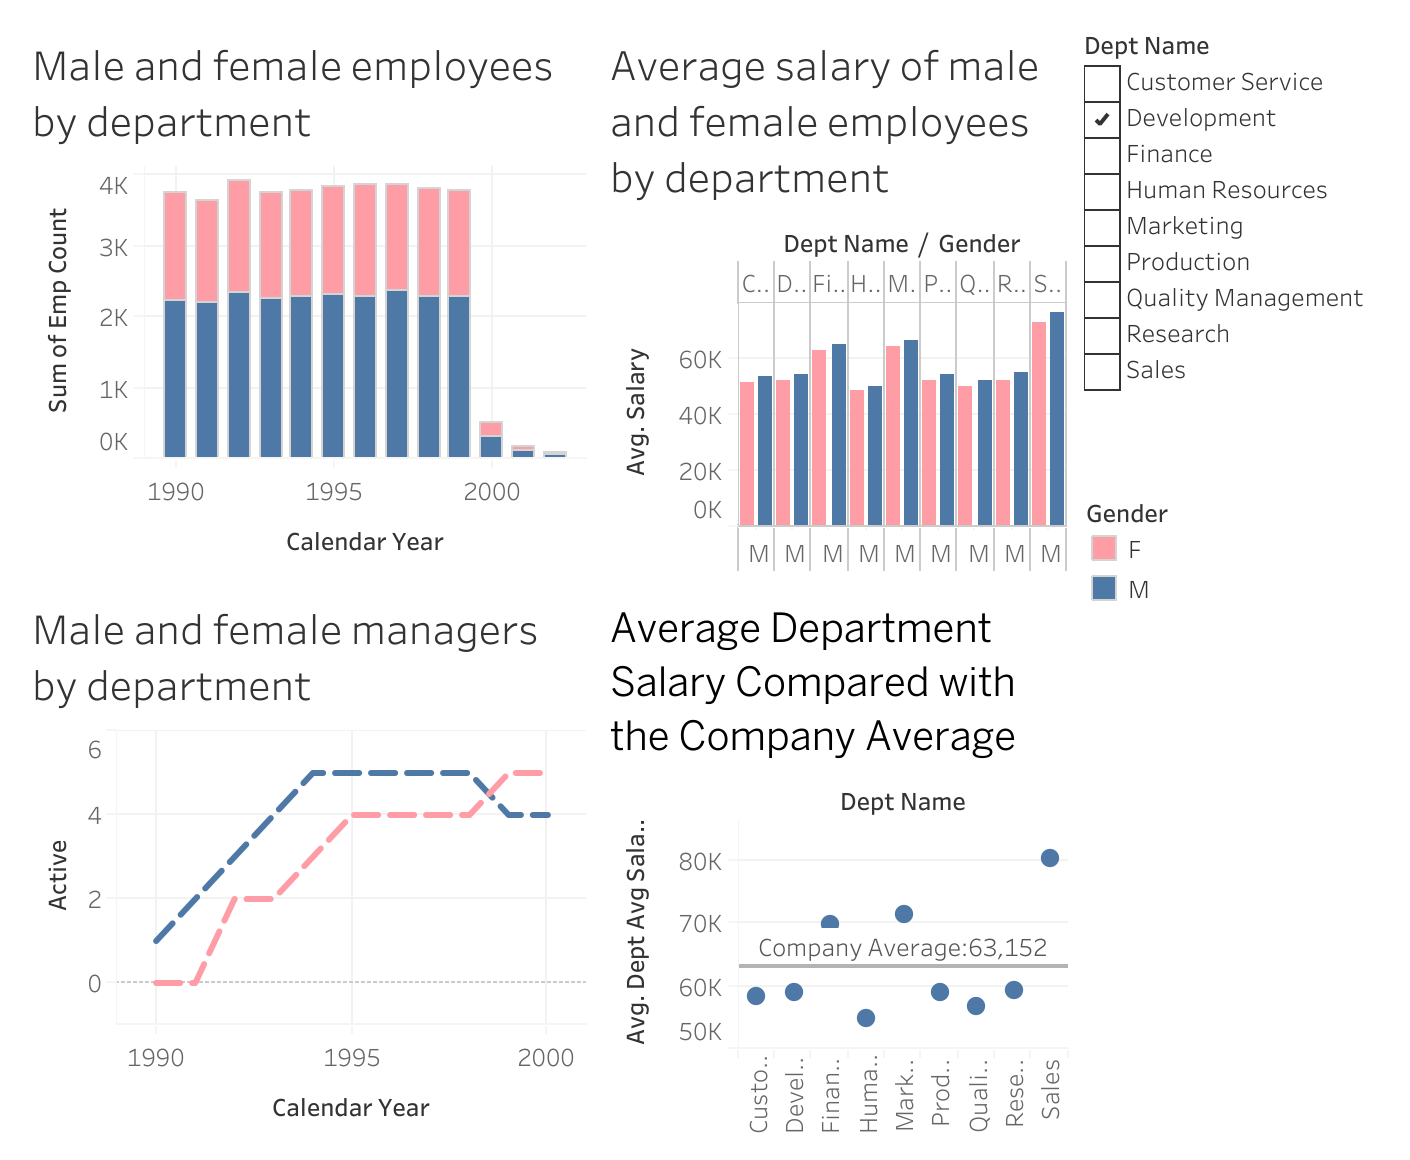

The dashboard page shown, as its layout file describes it:
{"tool":"tableau","page":{"name":"Dashboard 1","canvas":[1000,1000],"units":"permille","ordinal":0},"visuals":[{"type":"worksheet","title":"Sheet 1","mark":"Bar","rows":["emp_count"],"cols":["calendar_year"],"box":[6.7,10.6,465.6,489.4]},{"type":"worksheet","title":"Sheet 3","mark":"Automatic","rows":["salary"],"cols":["dept_name","gender"],"box":[472.2,10.6,387.8,489.4]},{"type":"filter","title":"Sheet 1","param":"[federated.10s8ktg1ohbfe3148qy4s0cj2242].[none:dept_name:nk]","box":[860,10.6,133.3,294.4]},{"type":"legend","title":"Sheet 1","param":"[federated.10s8ktg1ohbfe3148qy4s0cj2242].[none:gender:nk]","box":[860,305,133.3,87.5]},{"type":"worksheet","title":"Sheet 2","mark":"Line","rows":["active"],"cols":["calendar_year"],"box":[6.7,500,465.6,489.4]},{"type":"worksheet","title":"Sheet 4","mark":"Circle","rows":["dept_avg_salary"],"cols":["dept_name"],"box":[472.2,500,387.8,489.4]}]}

Visuals, with their boxes on the dashboard's canvas, which has no fixed pixel size, in thousandths of its width and height (x1, y1, x2, y2). These are canvas units, not pixel positions in the 1410x1160 screenshot, which may show the page scaled, cropped or inside an application window:
"Sheet 1" worksheet (Bar marks): <region>7, 11, 472, 500</region>
"Sheet 3" worksheet: <region>472, 11, 860, 500</region>
"Sheet 1" filter: <region>860, 11, 993, 305</region>
"Sheet 1" legend: <region>860, 305, 993, 392</region>
"Sheet 2" worksheet (Line marks): <region>7, 500, 472, 989</region>
"Sheet 4" worksheet (Circle marks): <region>472, 500, 860, 989</region>
